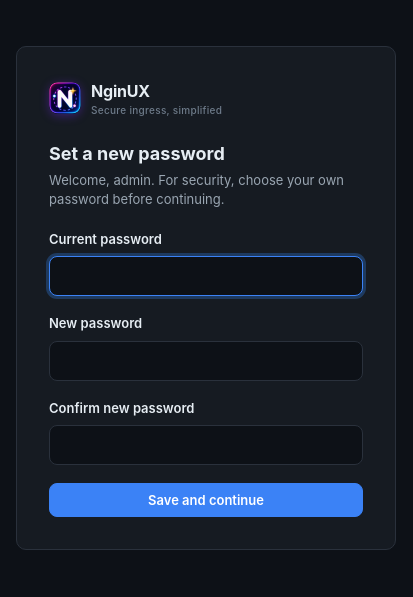
Scenario: ChangePassword › surfaces an API rejection through the alert banner
This screenshot has width=413, height=597.
Type "badpass1" into the password field labelled "Current password".
click(206, 276); type("badpass1")  # box x1=49 y1=256 x2=363 y2=296
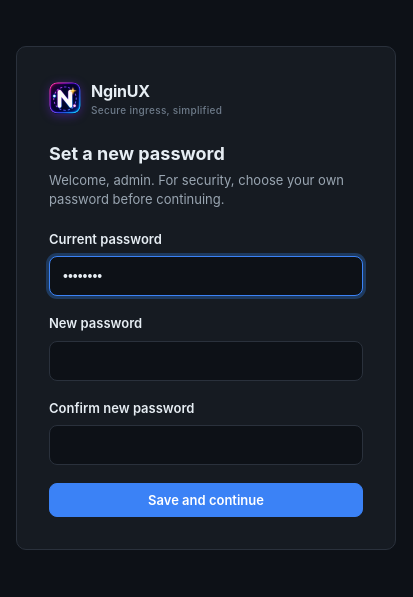
Type "newpassword1" into the password field labelled "New password".
click(206, 361); type("newpassword1")  # box x1=49 y1=341 x2=363 y2=381
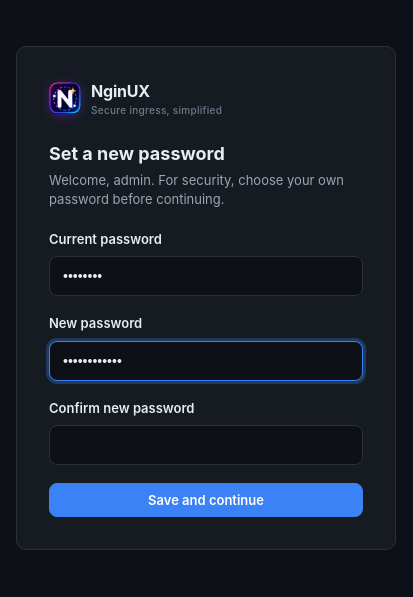
Type "newpassword1" into the password field labelled "Confirm new password".
click(206, 445); type("newpassword1")  # box x1=49 y1=425 x2=363 y2=465
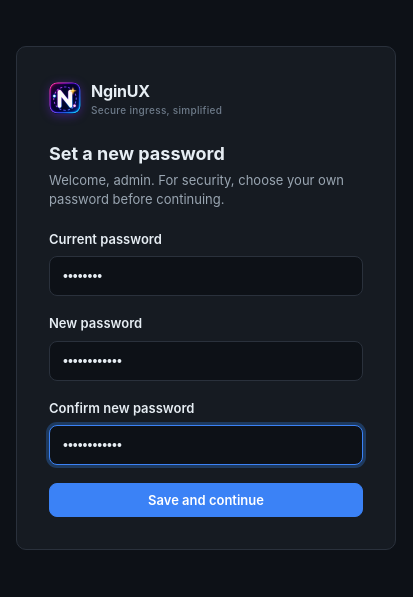
Click the button "Save and continue".
click(206, 500)  # box x1=49 y1=483 x2=363 y2=517
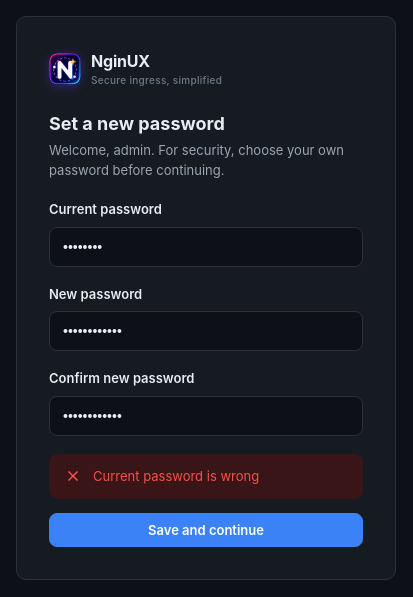
Expected: the message reads "Current password is wrong", x1=93 y1=468 x2=259 y2=484
